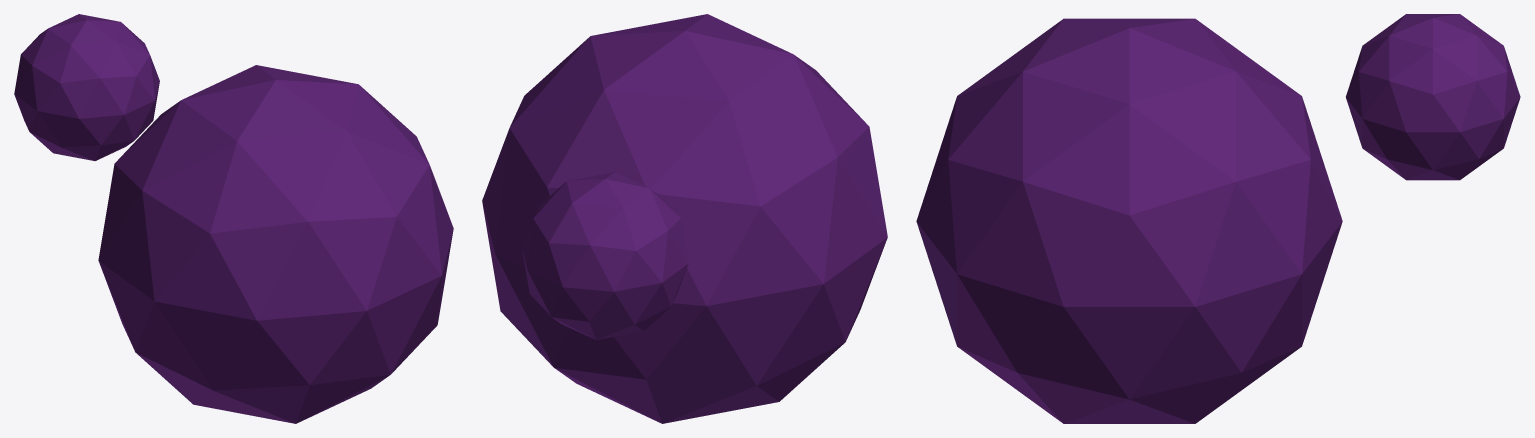
The model's file is planets.gltf.
The picture shows the model from 3 angles, left to right: view 1: azimuth 30°, elevation 25°; view 2: azimuth 150°, elevation 25°; view 3: azimuth 270°, elevation 25°; orthographic projection. The views are drawn at different scales.
Parts seen in each view (by area): view 1: Icosphere, Icosphere.001; view 2: Icosphere, Icosphere.001; view 3: Icosphere, Icosphere.001.
Part boxes in pixels (box(x1,y1,x2,y2)): Icosphere: box(98, 65, 453, 423); Icosphere.001: box(14, 14, 159, 160); Icosphere: box(482, 14, 887, 423); Icosphere.001: box(522, 172, 688, 339); Icosphere: box(916, 18, 1342, 423); Icosphere.001: box(1346, 14, 1520, 180).
Bounding box in the file's own units: 0.2614 × 0.2749 × 0.3895.
Materials: 1 (1 with a texture image).
